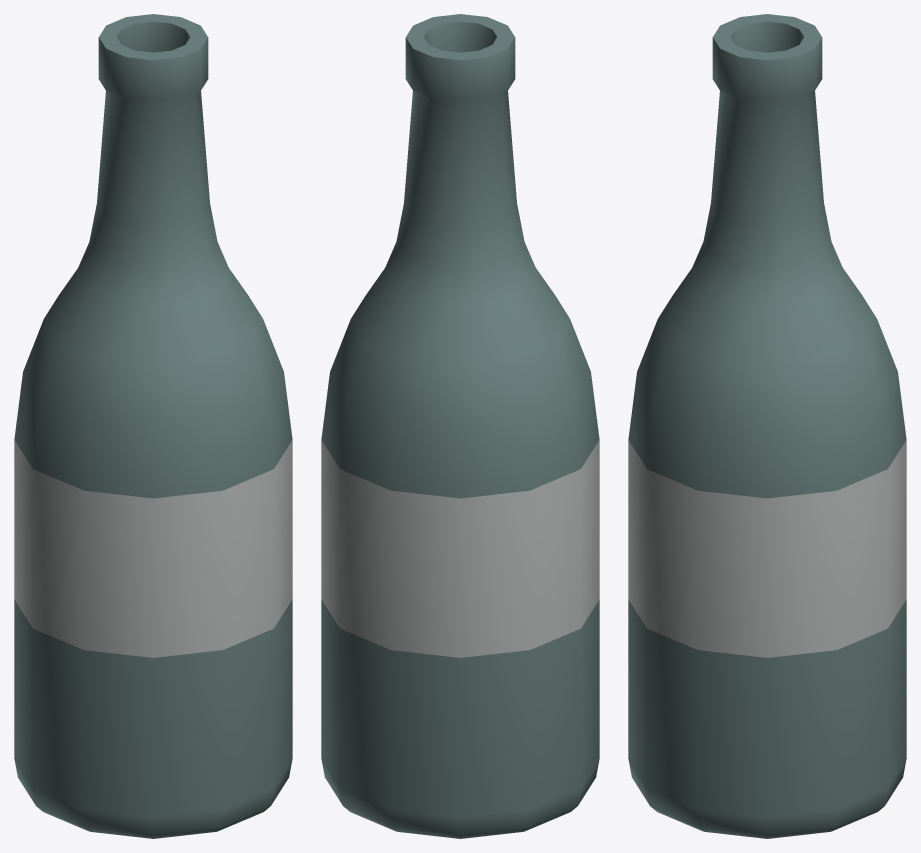
The model's file is Mesh_Bottle_01.fbx.
The picture shows the model from 3 angles, left to right: view 1: azimuth 30°, elevation 25°; view 2: azimuth 150°, elevation 25°; view 3: azimuth 270°, elevation 25°; orthographic projection.
Visible parts, largest first — view 1: Mesh_Bottle_01; view 2: Mesh_Bottle_01; view 3: Mesh_Bottle_01.
Boxes of the visible parts, bbox=[...] form: Mesh_Bottle_01: bbox=[14, 14, 292, 838]; Mesh_Bottle_01: bbox=[321, 14, 599, 838]; Mesh_Bottle_01: bbox=[628, 14, 906, 838].
Bounding box in the file's own units: 12 × 35.6 × 12.
